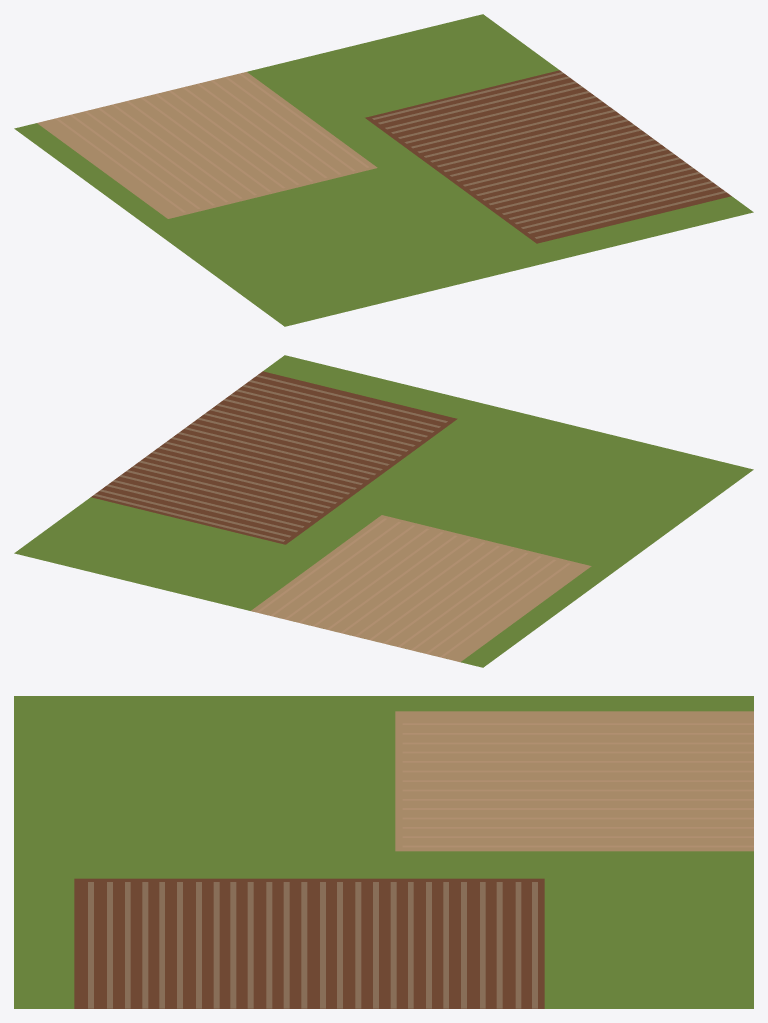
The model's file is crossing-0-7.glb.
The picture shows the model from 3 angles, top to bottom: view 1: azimuth 30°, elevation 25°; view 2: azimuth 150°, elevation 25°; view 3: azimuth 270°, elevation 25°; orthographic projection. The views are drawn at different scales.
Visible parts, largest first — view 1: crossing-0-7; view 2: crossing-0-7; view 3: crossing-0-7.
Part boxes in pixels (bbox=[...]): crossing-0-7: bbox=[14, 14, 753, 326]; crossing-0-7: bbox=[14, 355, 753, 667]; crossing-0-7: bbox=[14, 696, 753, 1008].
Bounding box in the file's own units: 100 × 0.0064 × 100.
